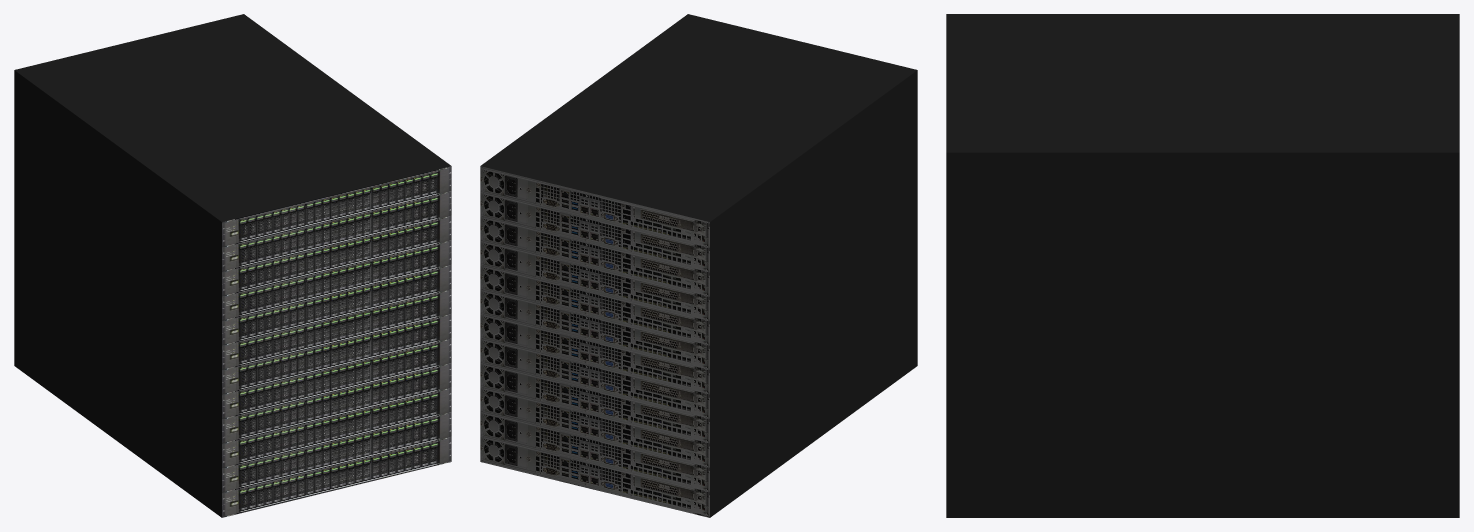
Rendered from CDR12.fbx.
The picture shows the model from 3 angles, left to right: view 1: azimuth 30°, elevation 25°; view 2: azimuth 150°, elevation 25°; view 3: azimuth 270°, elevation 25°; orthographic projection. The views are drawn at different scales.
Visible parts, largest first — view 1: CDR12; view 2: CDR12; view 3: CDR12.
Boxes of the visible parts, box(x1,y1,x2,y2) form: CDR12: box(14, 14, 451, 517); CDR12: box(480, 14, 917, 517); CDR12: box(946, 14, 1459, 517).
Bounding box in the file's own units: 434 × 534 × 680.
Materials: 3 (2 with a texture image).
